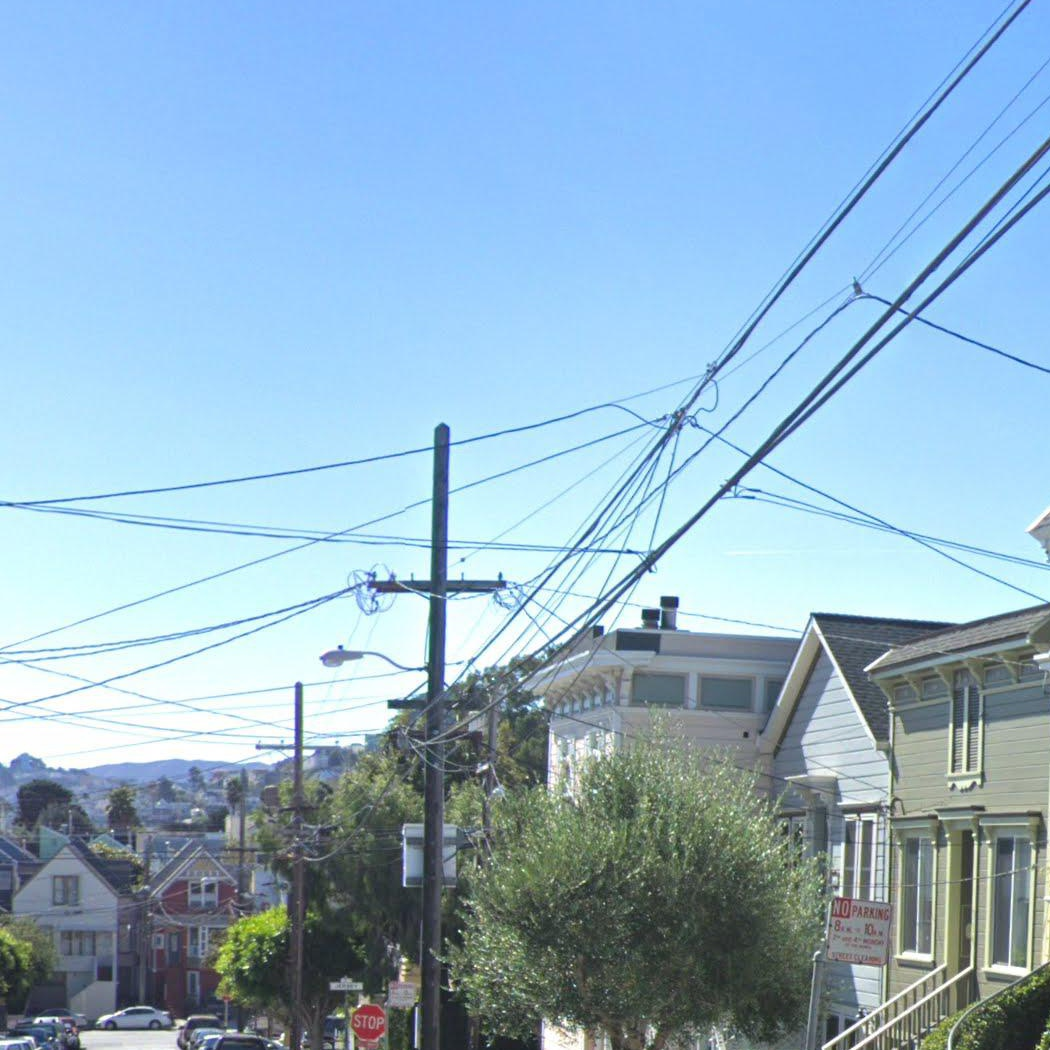No Parking: (824, 896, 894, 968)
